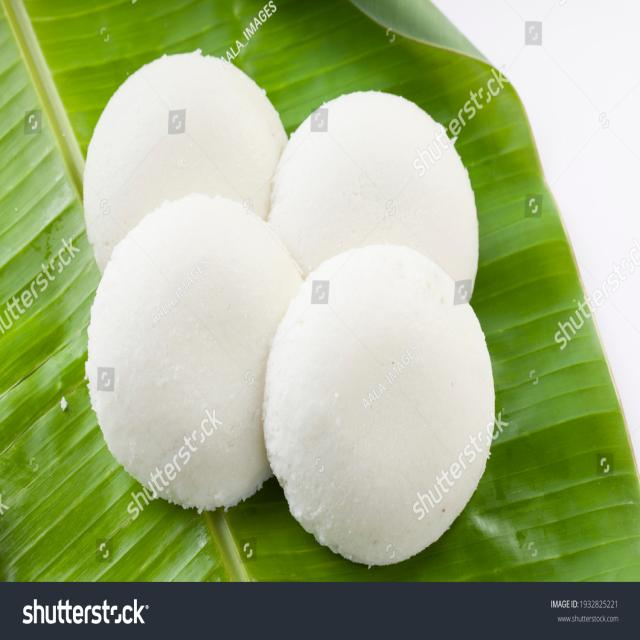IDLI: (82, 53, 497, 567)
